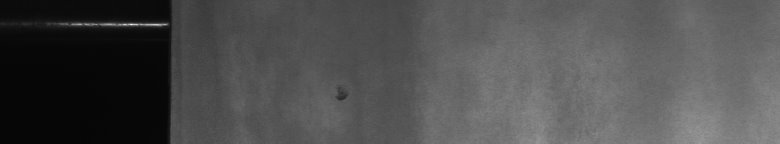fi: (332, 80, 352, 108)
